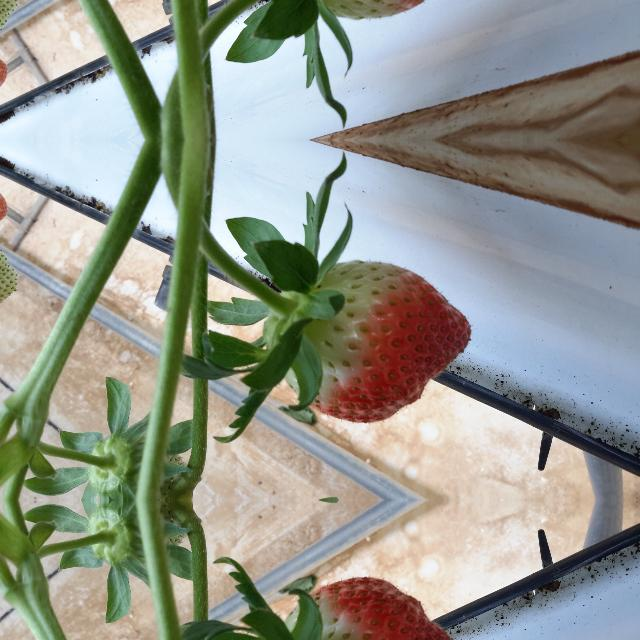Health_100: (285, 259, 471, 423), (285, 577, 471, 640)
